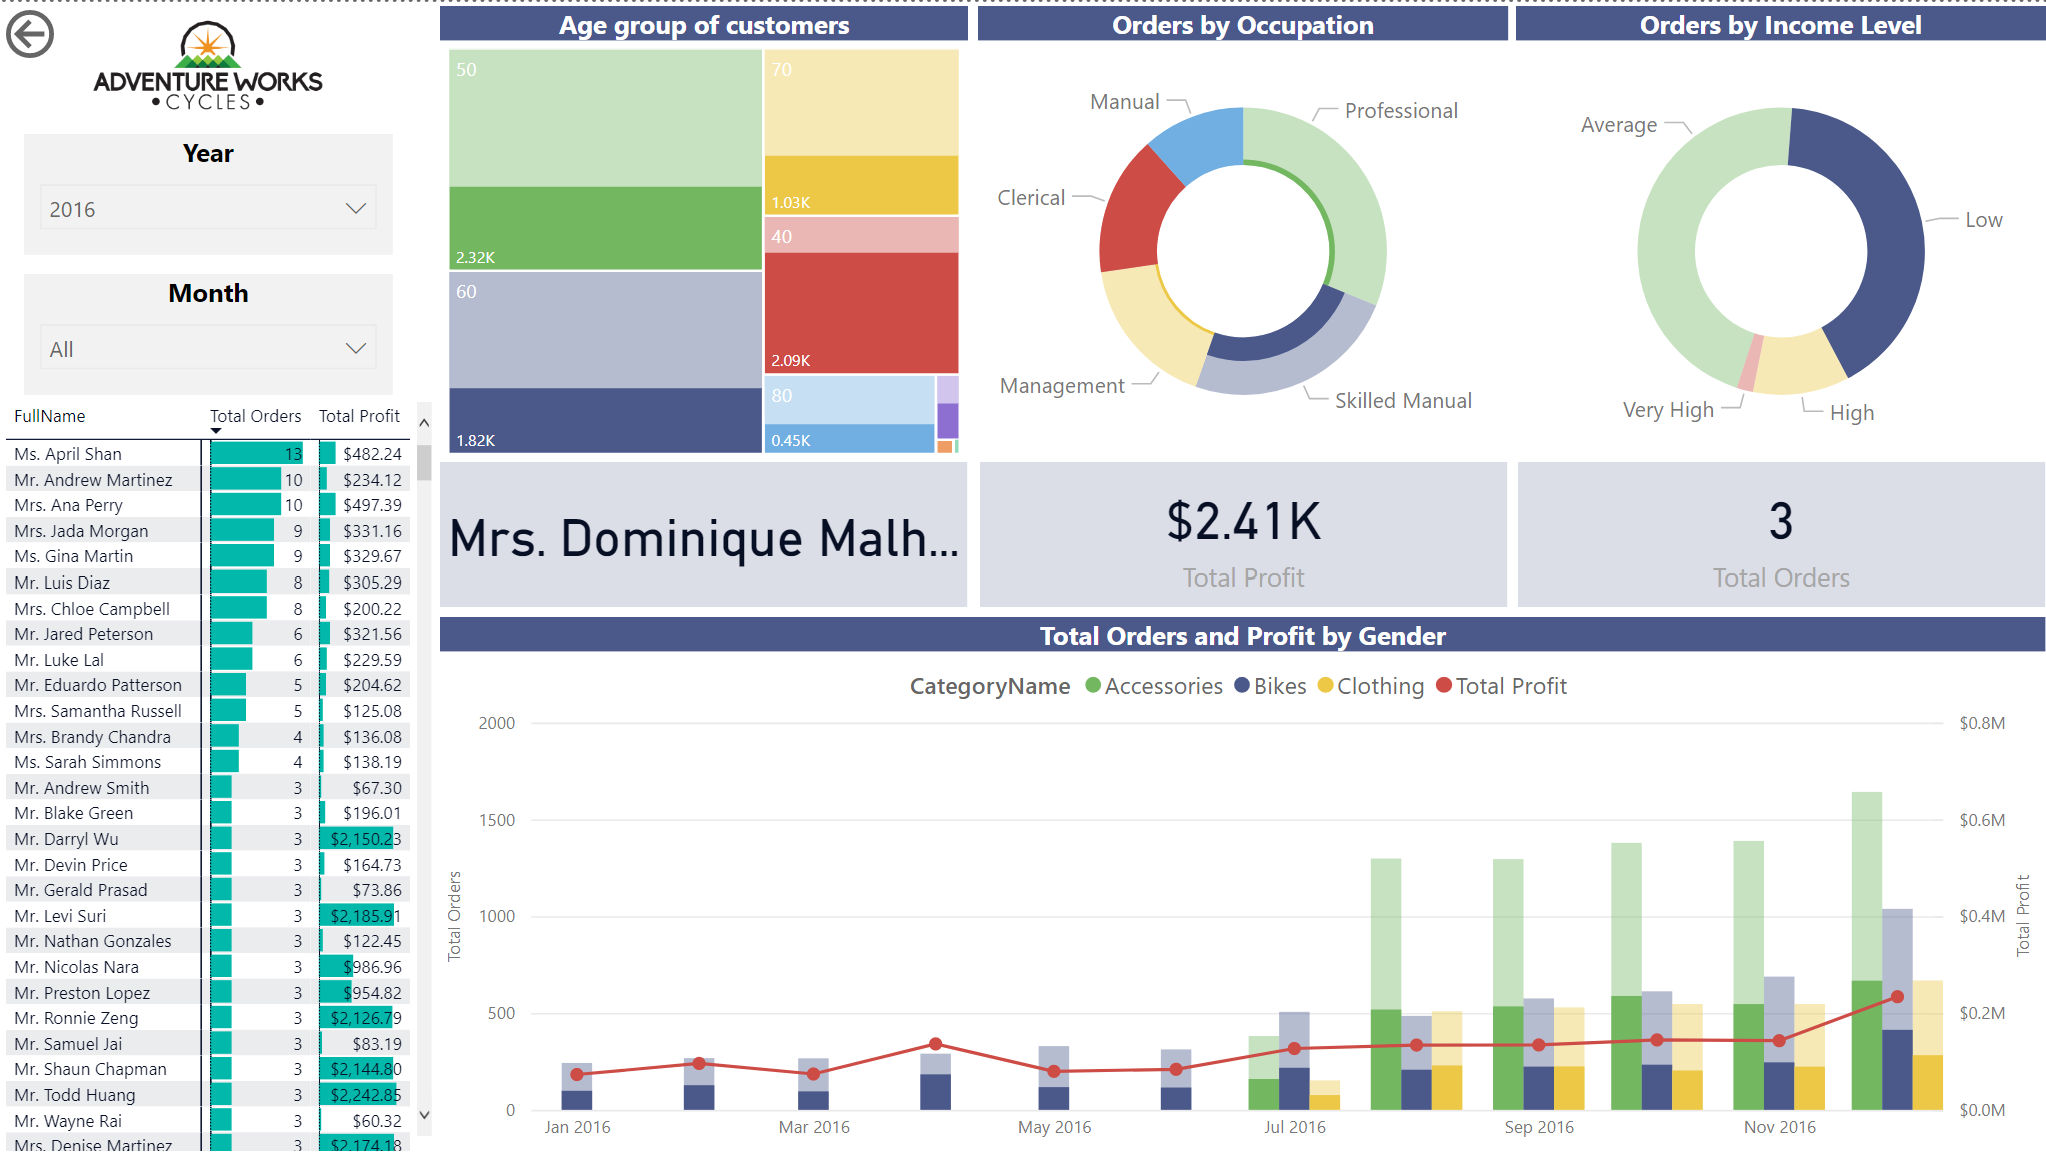

The dashboard page shown, as its layout file describes it:
{"tool":"powerbi","page":{"name":"Customber Details","canvas":[1280,720],"ordinal":2},"visuals":[{"type":"image","box":[0,2.9,261.8,74.2],"z":0},{"type":"donutChart","title":"Orders by Occupation","fields":{"Category":["AW_Customer_Lookup.Occupation"],"Y":["AW_Sales.Total Orders"]},"box":[612.5,2.4,331.3,284.9],"z":1000},{"type":"treemap","title":"Age group of customers","fields":{"Group":["AW_Customer_Lookup.Current Age (bins)"],"Values":["CountNonNull(AW_Customer_Lookup.CustomerKey)"]},"box":[276.3,2.4,330.1,284.9],"z":2000},{"type":"actionButton","box":[0,0,100,40],"z":3000},{"type":"lineClusteredColumnComboChart","title":"Total Orders and Profit by Gender","fields":{"Category":["AW_Calendar_Lookup.Start of Month"],"Y":["AW_Sales.Total Orders"],"Series":["AW_Customer_Lookup.Gender"],"Y2":["AW_Sales.Total Profit"]},"box":[276.3,383.9,1003.7,336],"z":4000},{"type":"slicer","title":"Year","fields":{"Values":["AW_Calendar_Lookup.Year"]},"box":[16.2,82.7,230.3,75.3],"z":5000},{"type":"slicer","title":"Month","fields":{"Values":["AW_Calendar_Lookup.Month Name"]},"box":[16.2,169.8,230.3,75.3],"z":6000},{"type":"donutChart","title":"Orders by Income Level","fields":{"Y":["AW_Sales.Total Orders"],"Category":["AW_Customer_Lookup.IncomeLevel"]},"box":[948.7,2.4,331.3,284.9],"z":7000},{"type":"pivotTable","fields":{"Rows":["AW_Customer_Lookup.FullName"],"Values":["AW_Sales.Total Orders","AW_Sales.Total Profit"]},"box":[0,245.1,276.1,476.9],"z":8000},{"type":"card","fields":{"Values":["Min(AW_Customer_Lookup.FullName)"]},"box":[276.5,287.5,329.6,90],"z":9000},{"type":"card","fields":{"Values":["AW_Sales.Total Profit"]},"box":[613.4,287.5,329.6,90],"z":10000},{"type":"card","fields":{"Values":["AW_Sales.Total Orders"]},"box":[950.4,287.5,329.6,90],"z":11000}]}

Visuals, with their boxes in screenshot pixels (x1, y1, x2, y2), scaled from the page's 1280x720 canvas onto the 2046x1152 screenshot:
image: 0, 5, 418, 123
"Orders by Occupation" donutChart: 979, 4, 1509, 460
"Age group of customers" treemap: 442, 4, 969, 460
actionButton: 0, 0, 160, 64
"Total Orders and Profit by Gender" lineClusteredColumnComboChart: 442, 614, 2045, 1151
"Year" slicer: 26, 132, 394, 253
"Month" slicer: 26, 272, 394, 392
"Orders by Income Level" donutChart: 1516, 4, 2045, 460
pivotTable - AW_Customer_Lookup.FullName x AW_Sales.Total Orders: 0, 392, 441, 1151
card - Min(AW_Customer_Lookup.FullName): 442, 460, 969, 604
card - AW_Sales.Total Profit: 980, 460, 1507, 604
card - AW_Sales.Total Orders: 1519, 460, 2045, 604
